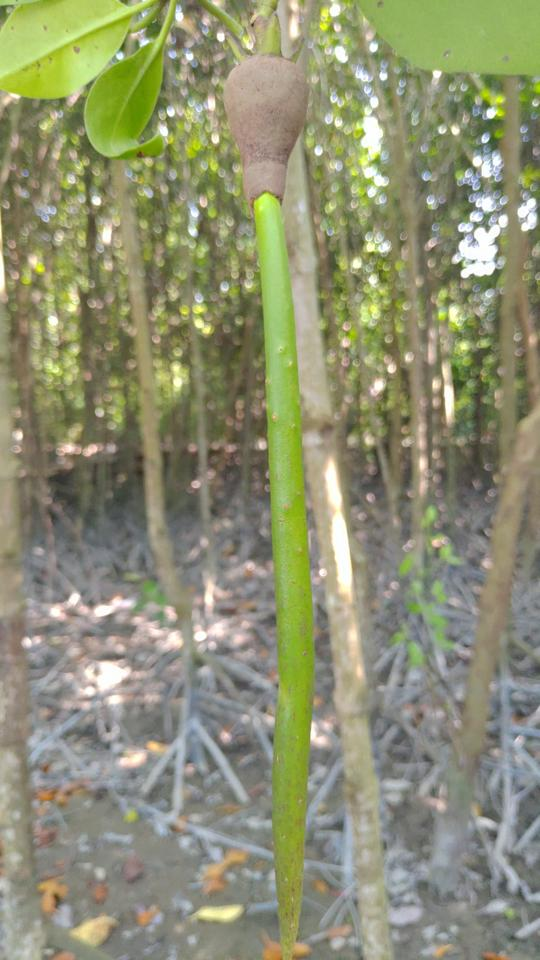mentah: (205, 11, 335, 955)
